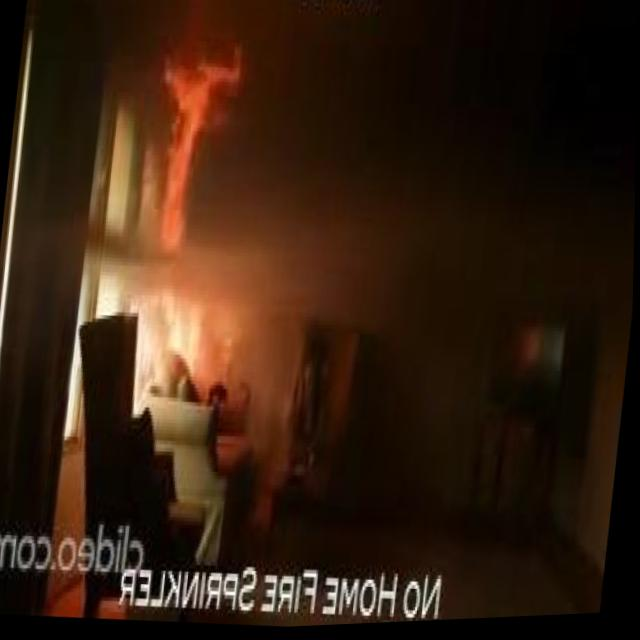fire: (142, 34, 247, 263), (150, 292, 209, 374)
